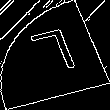L_S: (26, 26, 84, 84)
